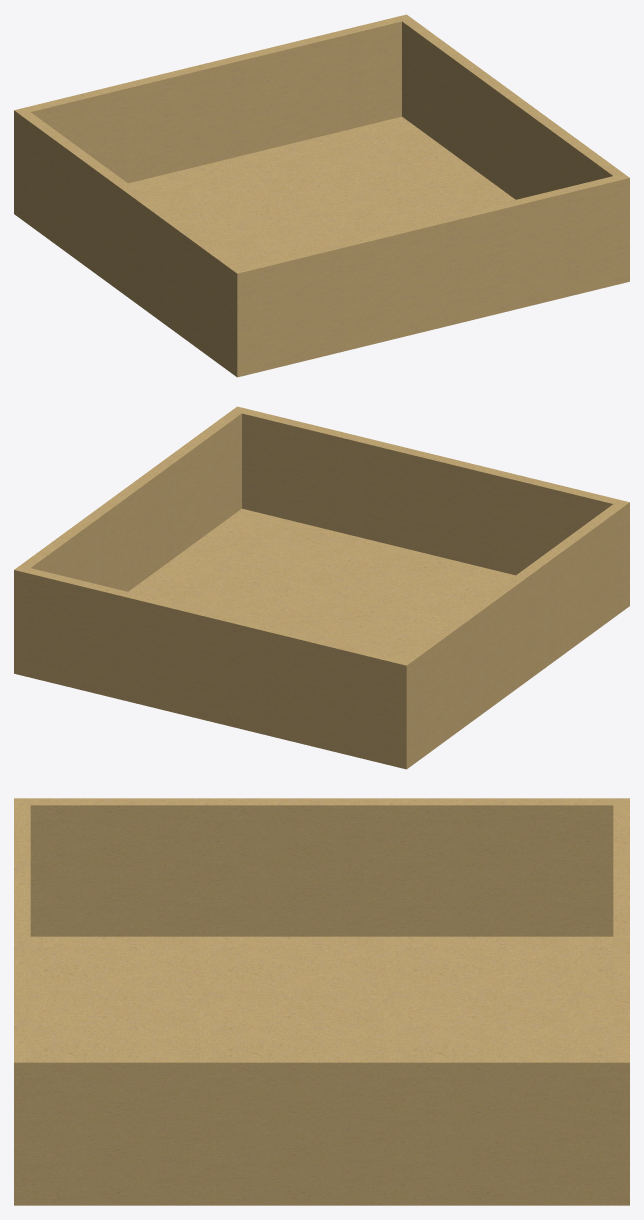
File: firsthouse.dae
The picture shows the model from 3 angles, top to bottom: view 1: azimuth 30°, elevation 25°; view 2: azimuth 150°, elevation 25°; view 3: azimuth 270°, elevation 25°; orthographic projection. The views are drawn at different scales.
Visible parts, largest first — view 1: Shell (×2); view 2: Shell (×2); view 3: Shell (×2).
Part boxes in pixels (x1,y1,x2,y2): Shell (×2): (14,14,629,377); Shell (×2): (14,406,629,769); Shell (×2): (14,798,629,1205).
Bounding box in the file's own units: 475 × 468 × 120.
Materials: 1 (1 with a texture image).
